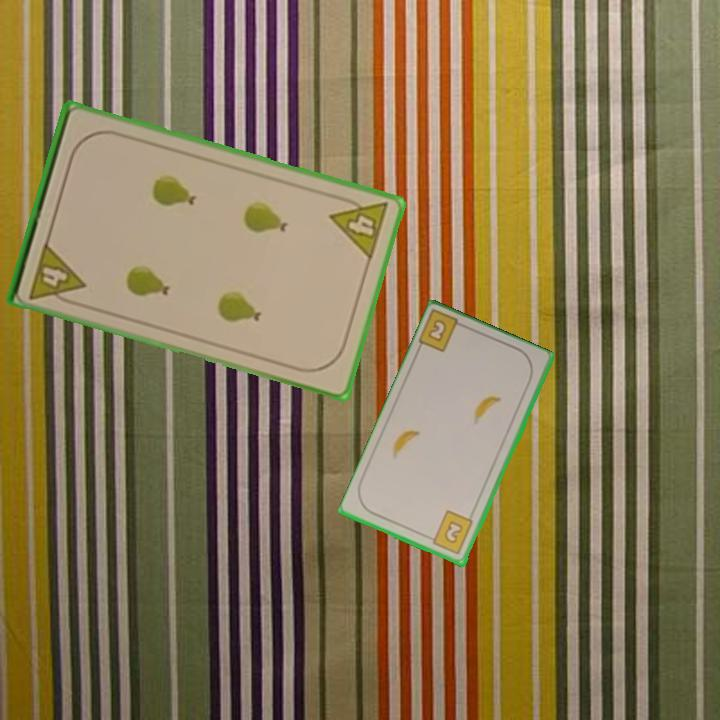2b: (424, 507, 476, 558), (416, 308, 471, 355)
4p: (326, 191, 392, 263), (25, 238, 88, 309)
